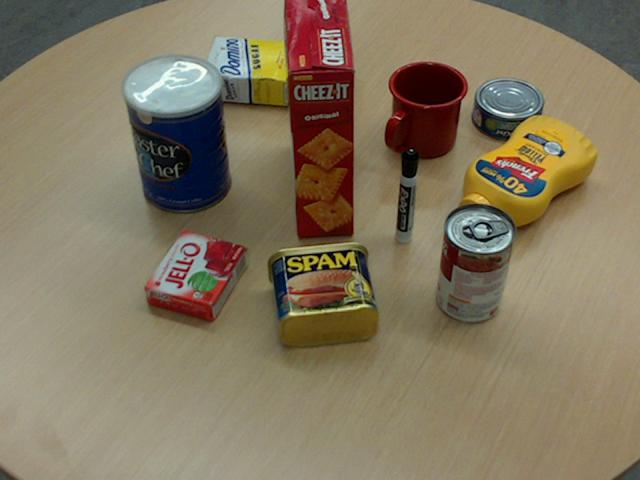cracker_box: (285, 0, 355, 236)
gelatin_box: (143, 228, 247, 320)
large_marker: (396, 149, 419, 243)
master_chef_can: (122, 54, 230, 213)
mug: (385, 60, 467, 157)
mustard_bottle: (454, 116, 595, 231)
potted_meat_can: (266, 240, 377, 345)
sugar_box: (201, 35, 346, 108)
tomato_soup_can: (436, 202, 516, 322)
tuna_fish_can: (471, 77, 542, 139)
